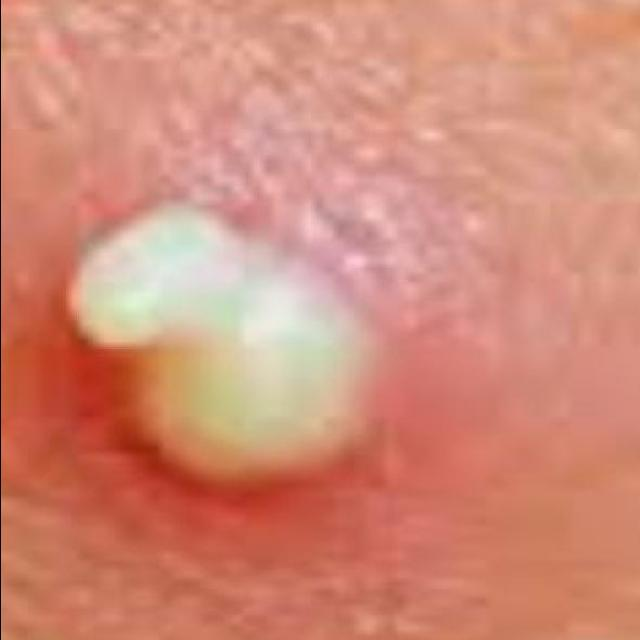pustule: (0, 108, 422, 549)
